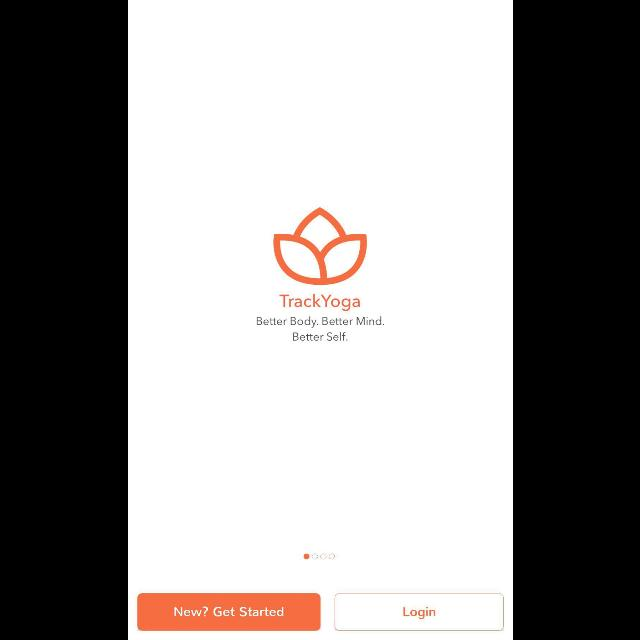image: (273, 207, 367, 285)
pageindicator: (302, 553, 334, 559)
text: (256, 316, 384, 342), (279, 294, 359, 312)
textbutton: (136, 594, 320, 630), (333, 593, 502, 631)
